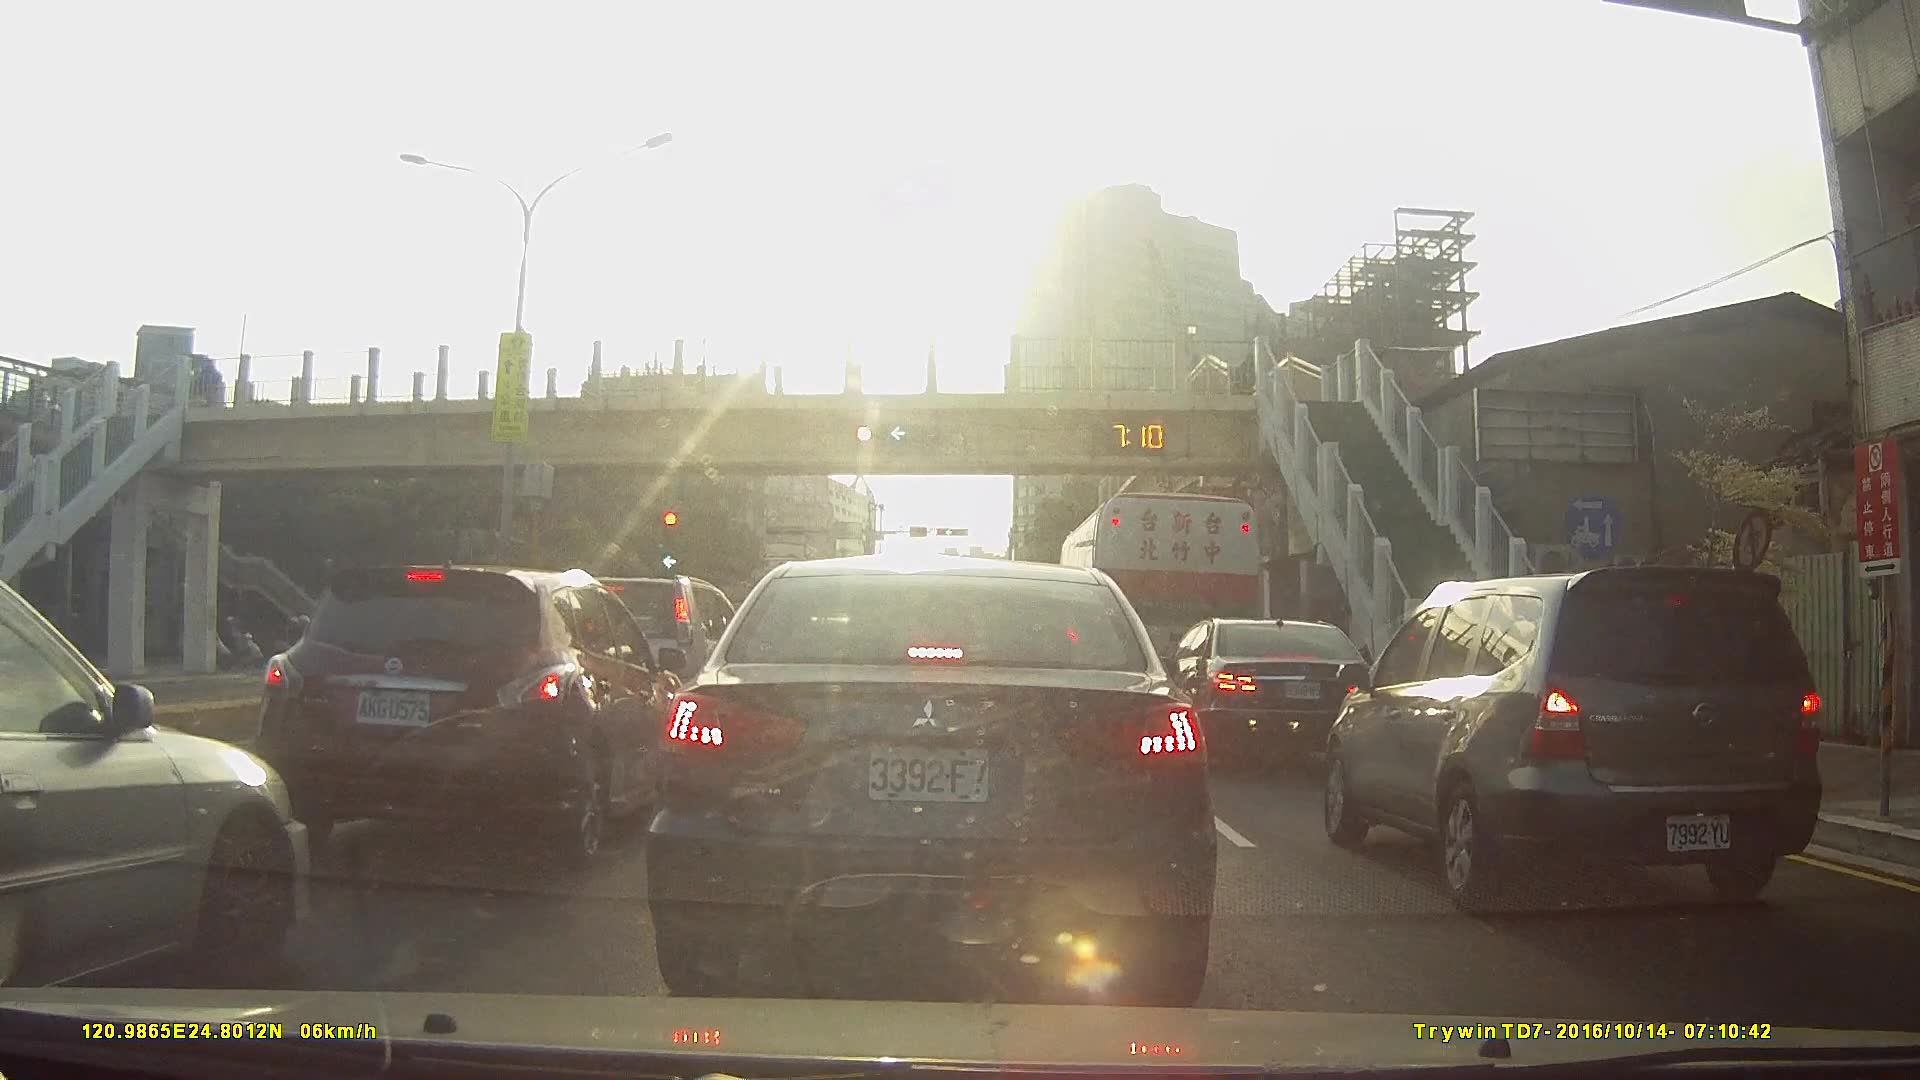pedestrian: (1232, 351, 1259, 408), (203, 361, 226, 411)
rider: (209, 614, 267, 669)
vehicle: (643, 552, 1218, 1004), (1316, 562, 1819, 913), (249, 561, 694, 868), (0, 572, 314, 1004), (1057, 489, 1260, 734), (1155, 615, 1383, 765)
